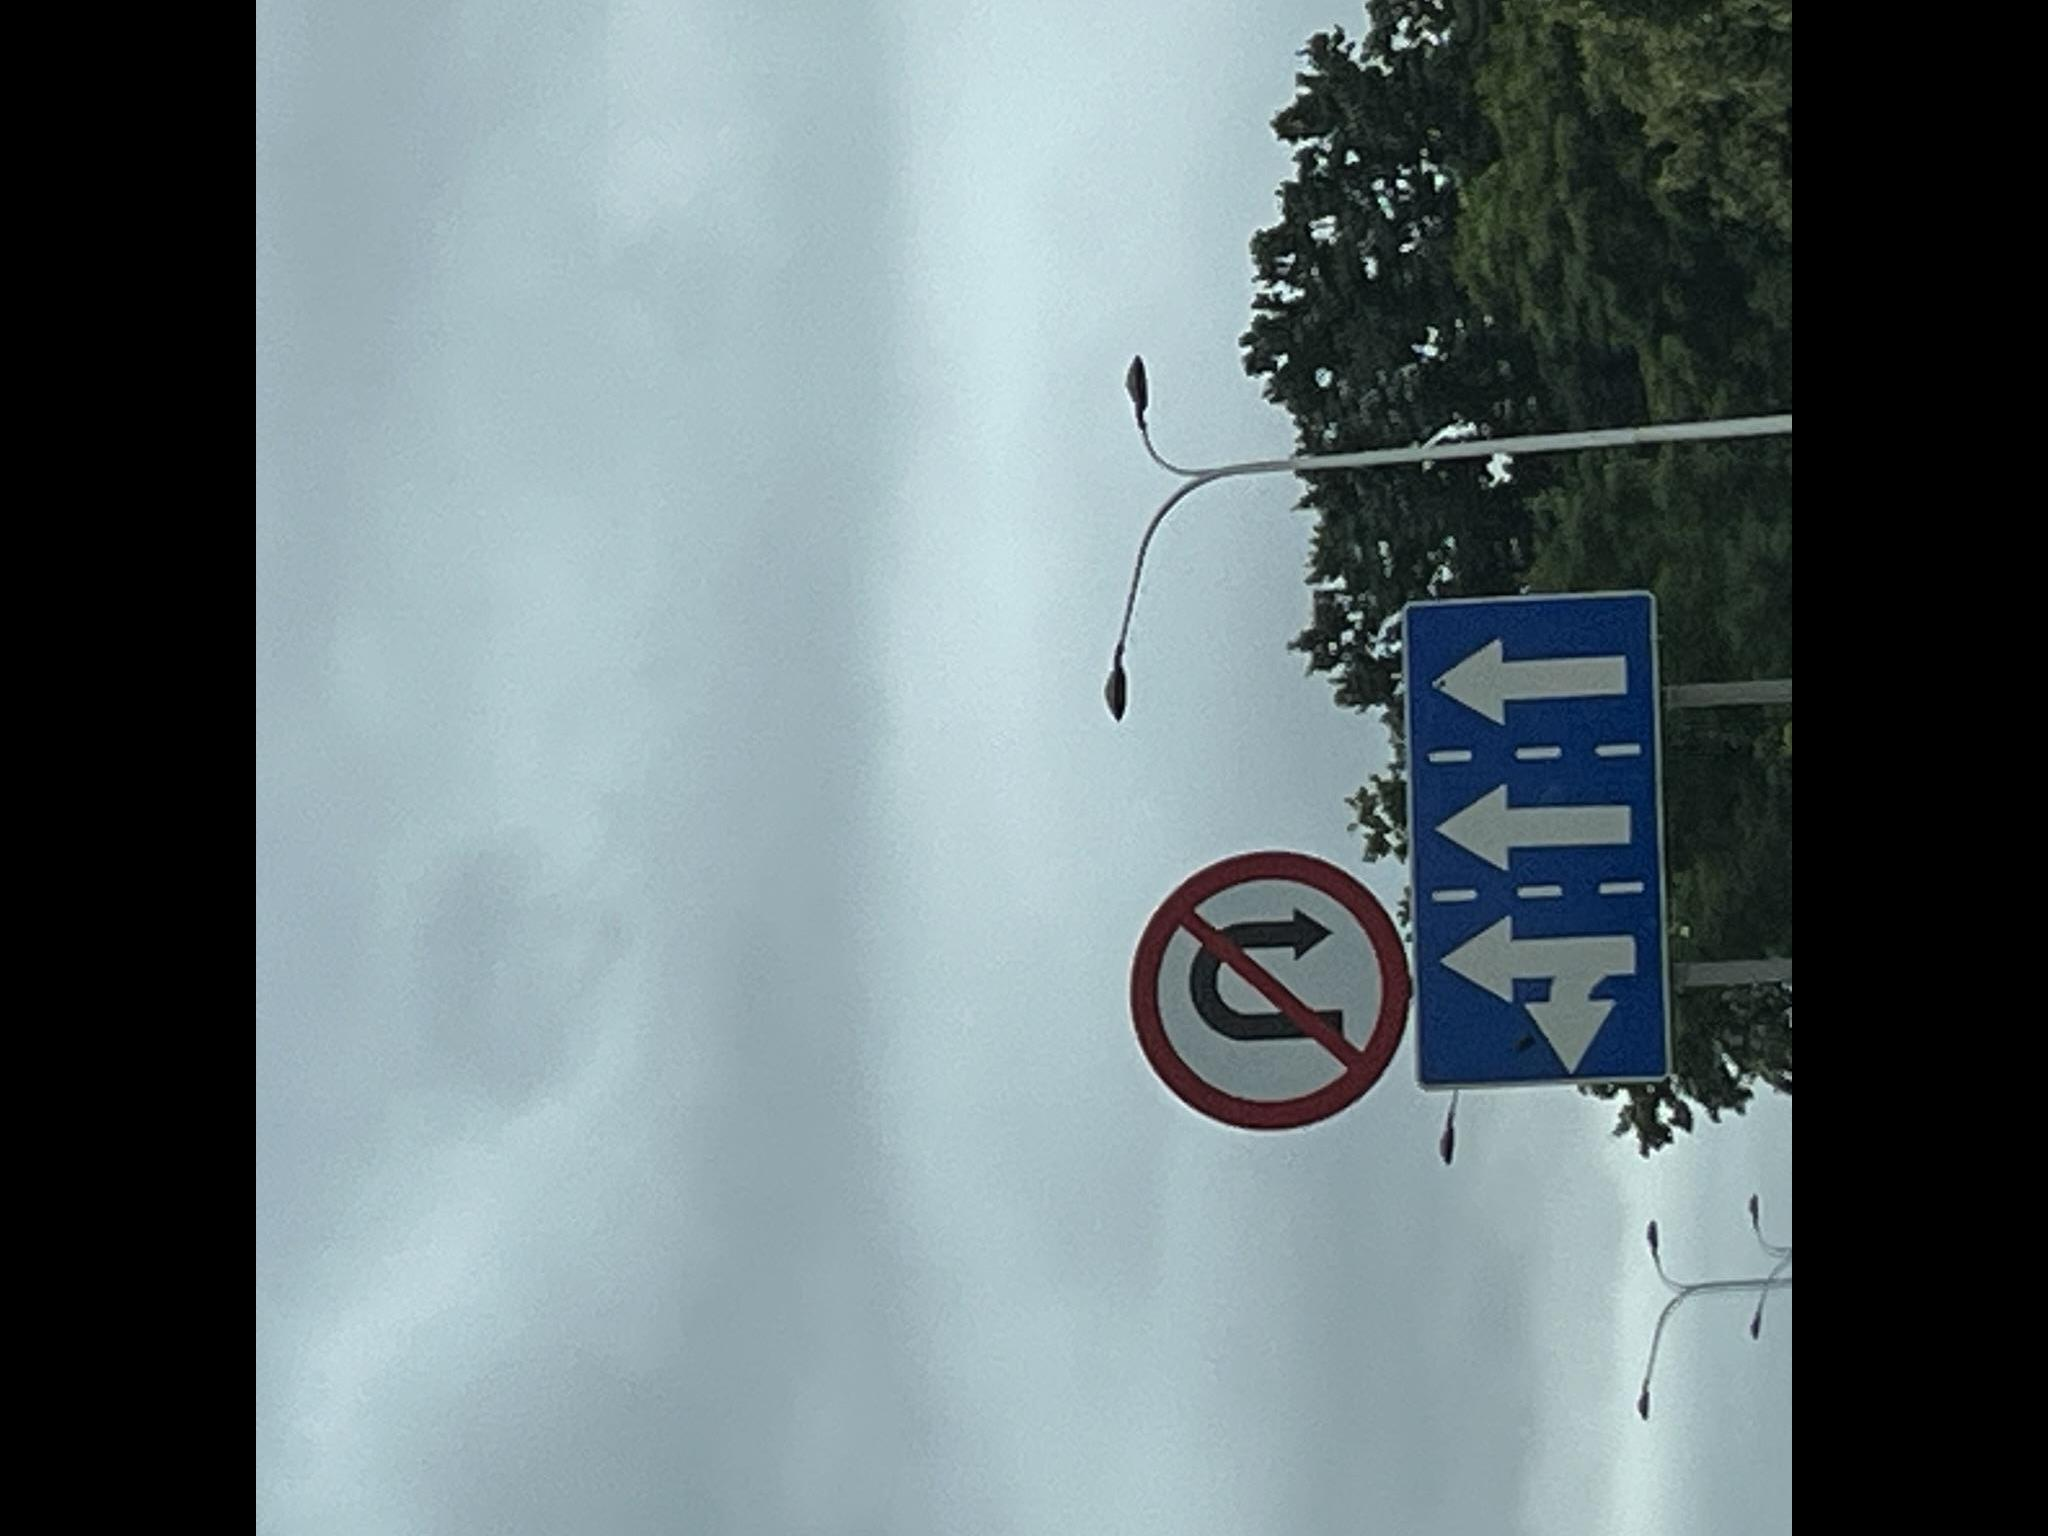other: (1406, 586, 1679, 1092)
prohibitory: (1126, 845, 1414, 1134)
